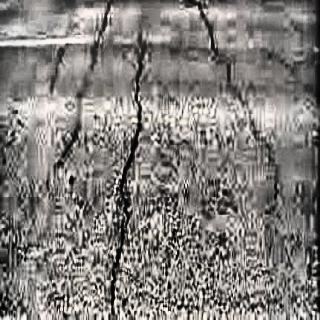crack: (189, 0, 297, 247), (106, 39, 155, 320), (41, 3, 113, 194)
